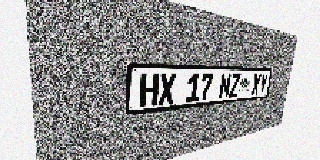1: (185, 74, 201, 102)
7: (199, 74, 213, 101)
H: (139, 73, 159, 108)
N: (218, 74, 231, 99)
X: (158, 73, 176, 105), (251, 74, 262, 95)
Y: (258, 74, 268, 94)
Z: (229, 74, 241, 98)
